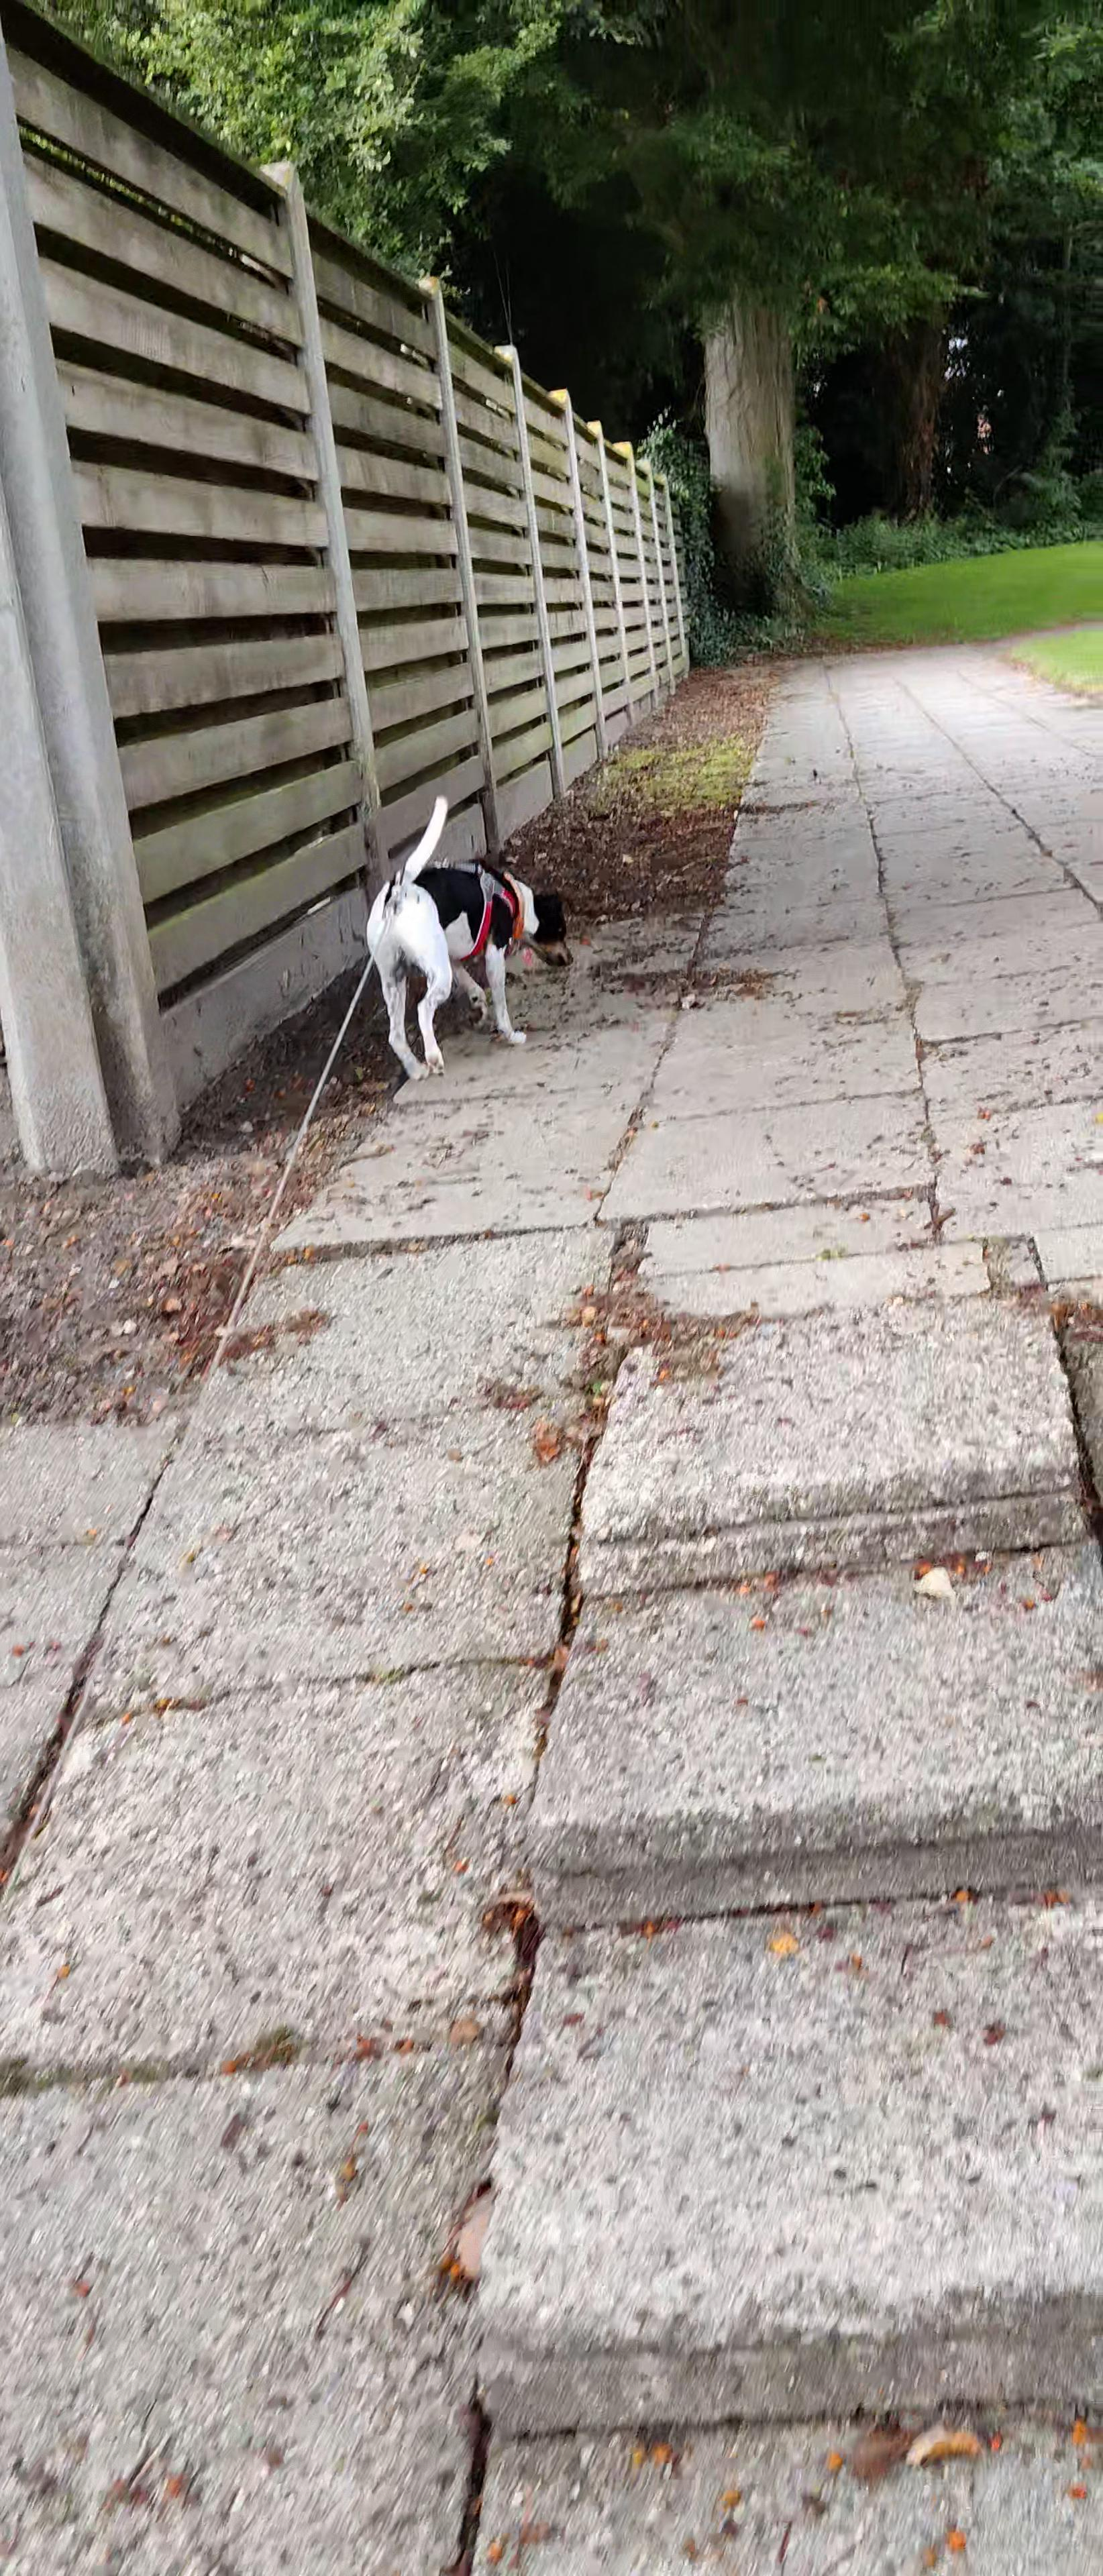Dog: (357, 795, 577, 1081)
